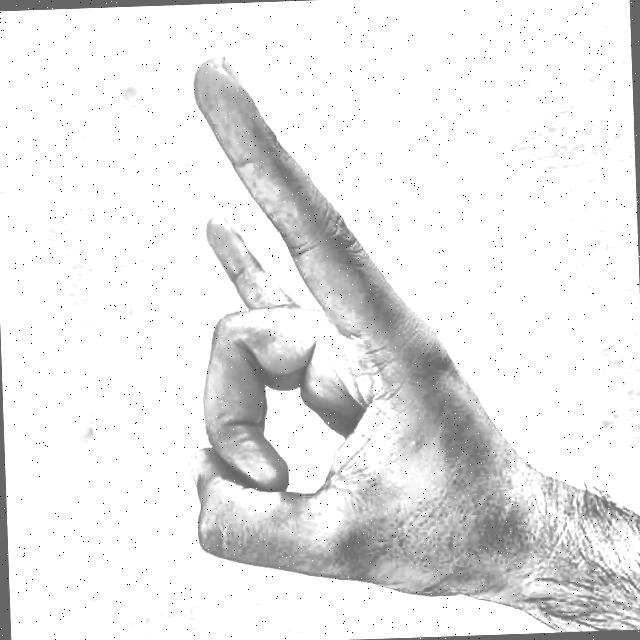Cha: (99, 19, 540, 640)
